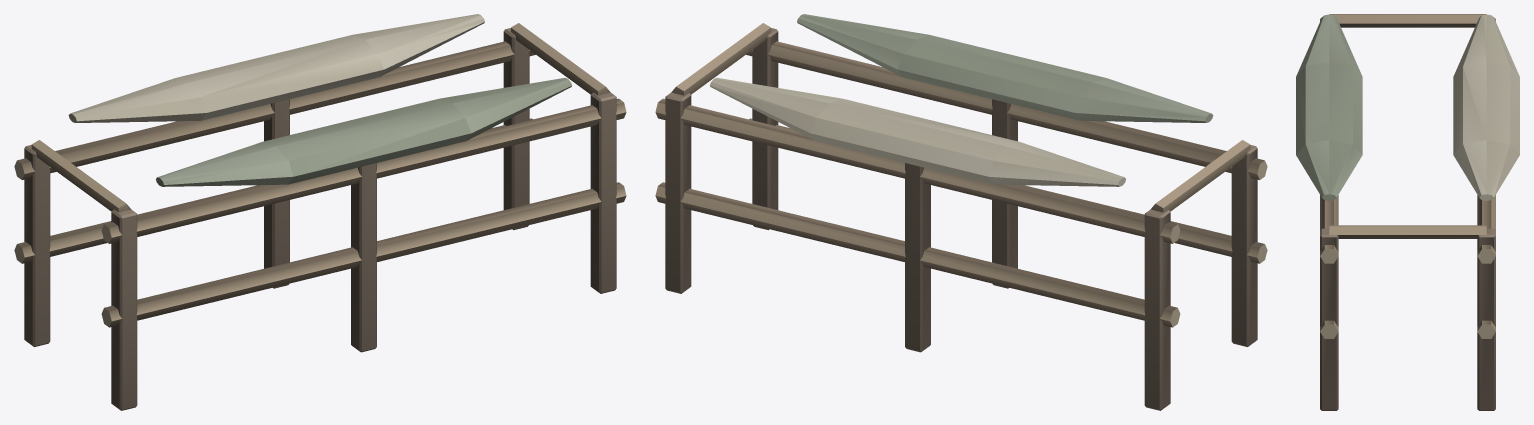
File: rack.lod1.glb
3 renders of one model, left to right at view 1: azimuth 30°, elevation 25°; view 2: azimuth 150°, elevation 25°; view 3: azimuth 270°, elevation 25°, orthographic. The views are drawn at different scales.
Bounding box in the file's own units: 5.8 × 2.4 × 2.42.
